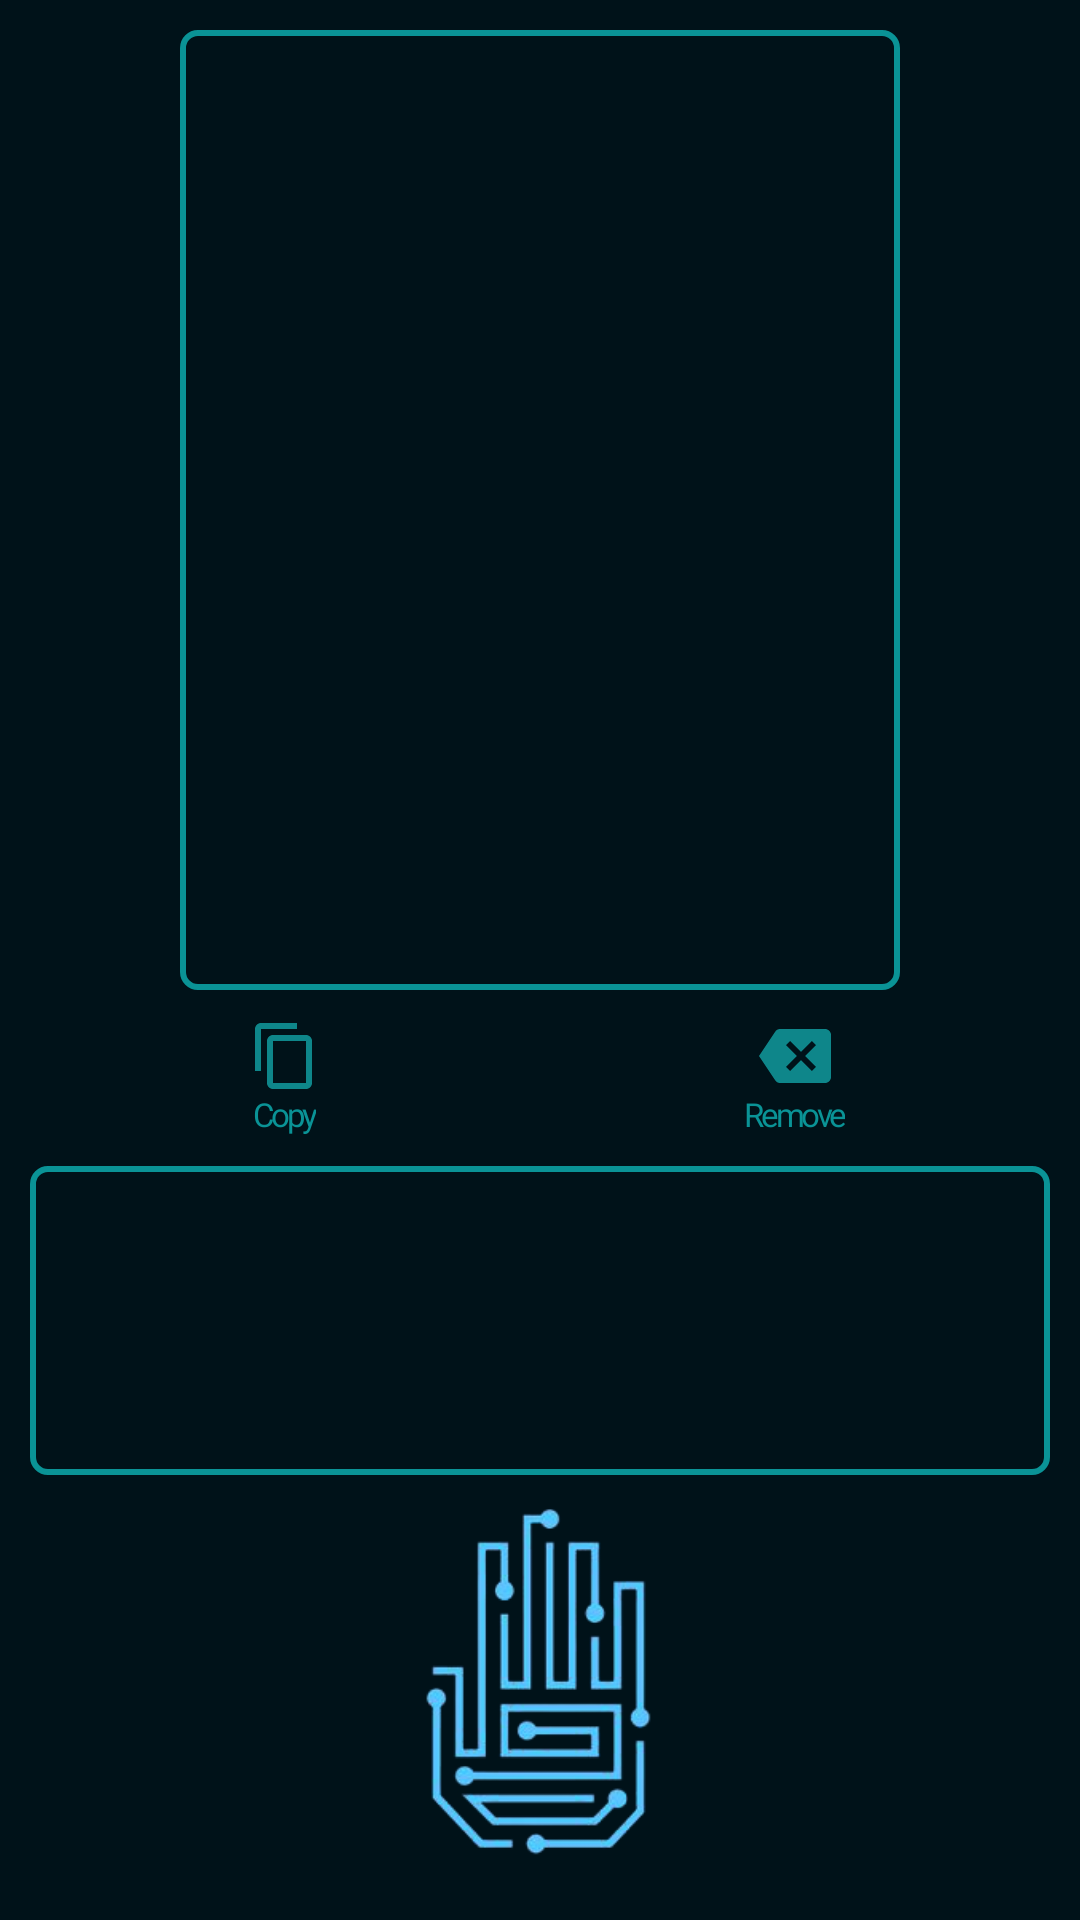

Screen size 1080 x 1920. Icon name, then its box in pixels as (x1, y1, x2, y2):
hand: (426, 1509, 651, 1854)
